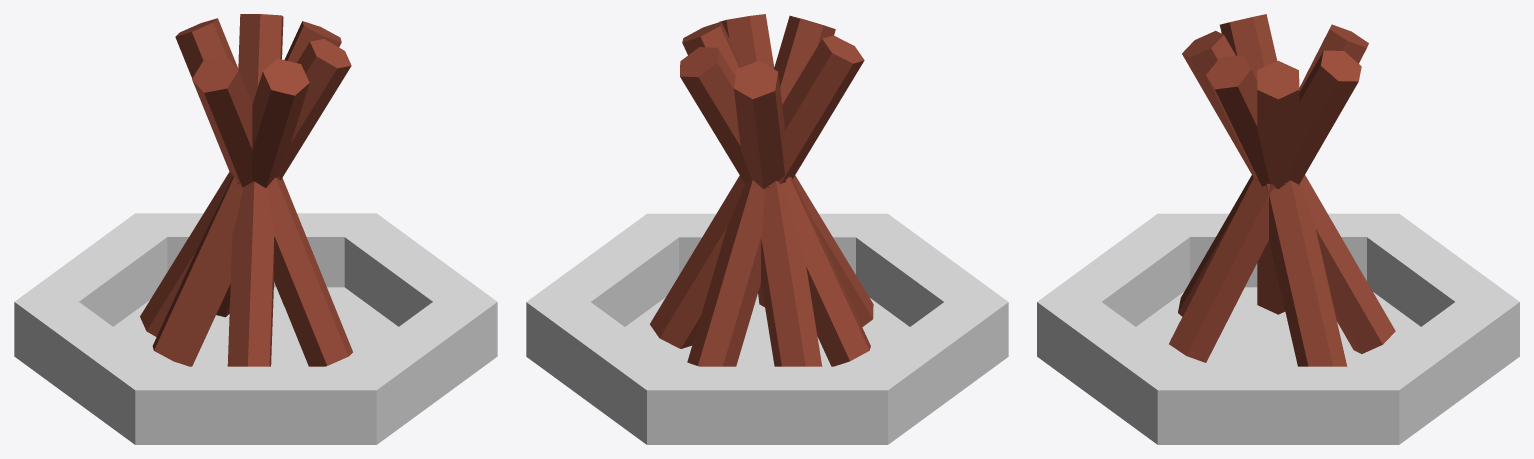
The model's file is Fire.fbx.
3 renders of one model, left to right at view 1: azimuth 30°, elevation 25°; view 2: azimuth 150°, elevation 25°; view 3: azimuth 270°, elevation 25°, orthographic.
Visible parts, largest first — view 1: Cylinder, Stick; view 2: Cylinder, Stick; view 3: Cylinder, Stick.
Part boxes in pixels (box(x1,y1,x2,y2)): Cylinder: box(14, 213, 497, 444); Stick: box(140, 14, 352, 366); Cylinder: box(526, 213, 1008, 444); Stick: box(650, 14, 873, 366); Cylinder: box(1037, 213, 1519, 444); Stick: box(1169, 14, 1395, 366).
Bounding box in the file's own units: 34.64 × 29.18 × 40.
